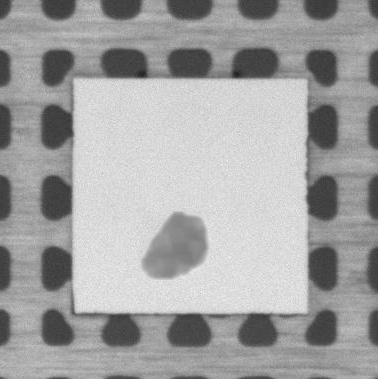DIE_INK: (126, 195, 221, 297)
